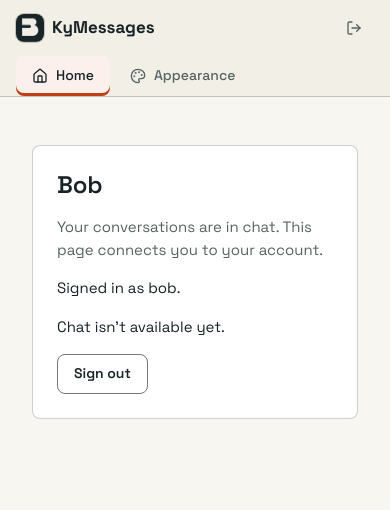
Test: stays signed in and says so when the server refuses sign-out
Click the button named "Sign out".
click(354, 28)  # box [334, 8, 374, 48]
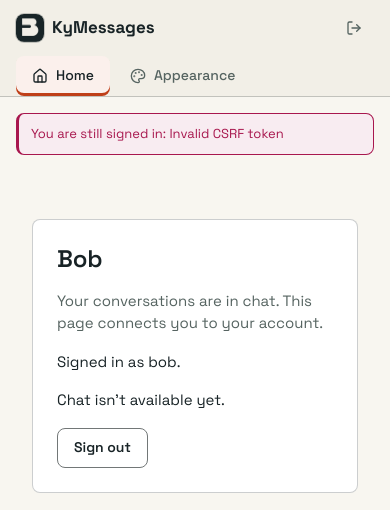
Expected: the heading "Bob" is shown, [57, 242, 102, 274]
Expected: the message reads "You are still signed in: Invalid CSRF token", [31, 125, 284, 142]
